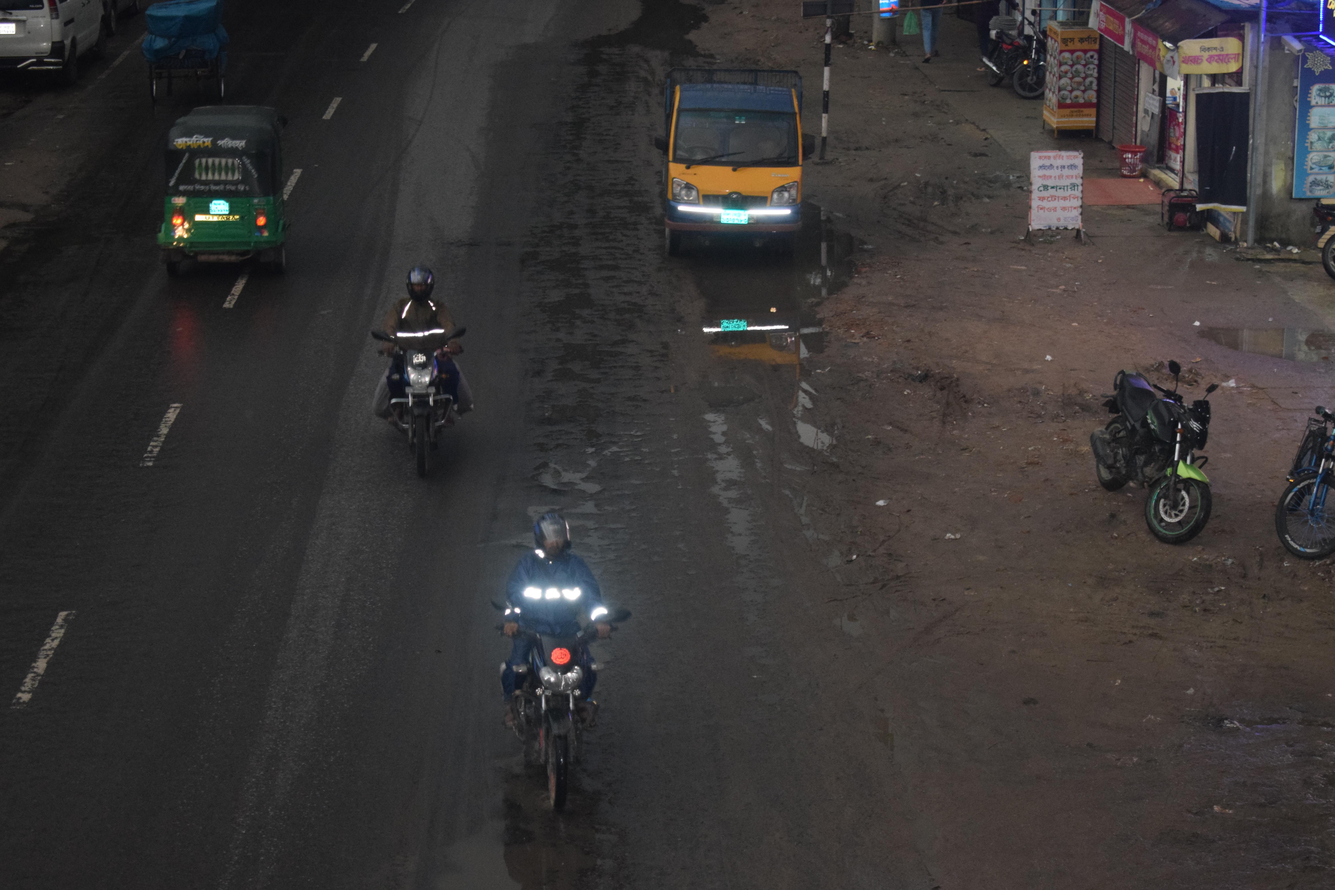Bike: (441, 475, 670, 843), (324, 241, 520, 510), (1054, 328, 1253, 573)
Car: (0, 0, 129, 90)
Truck: (616, 45, 846, 286)
